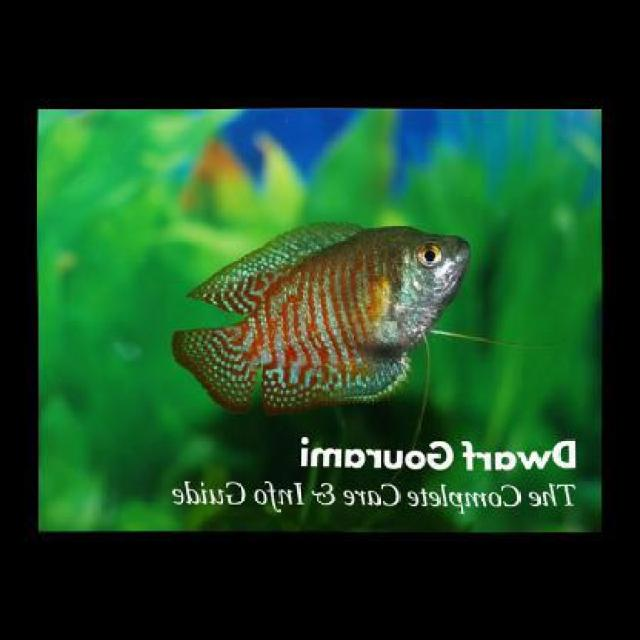Gourami: (176, 220, 473, 408)
